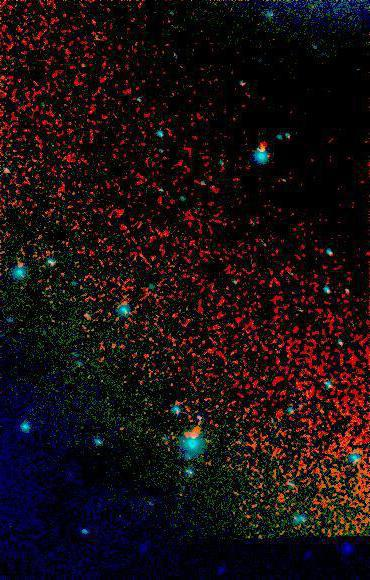star: (179, 418, 209, 448)
